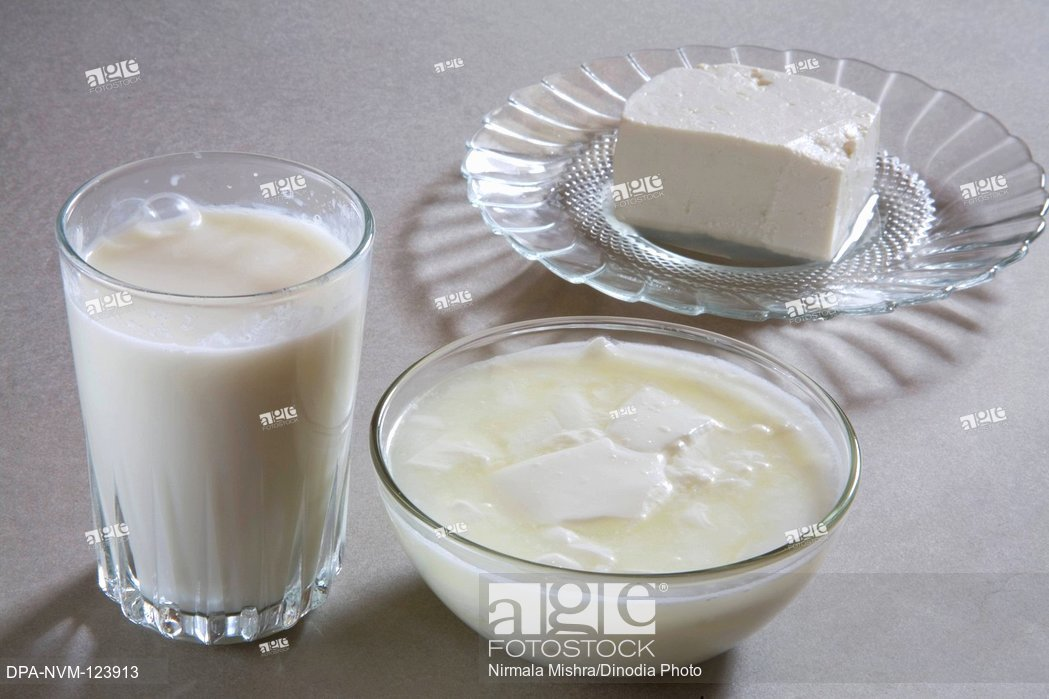glass of milk: (63, 191, 334, 633)
